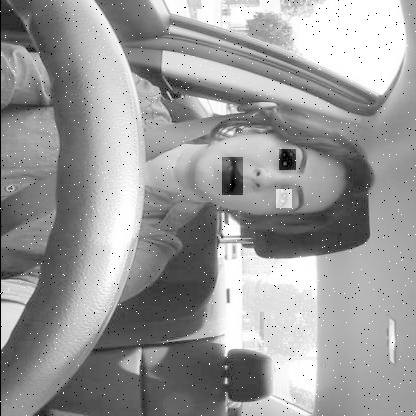seatbelt: (0, 101, 380, 236)
